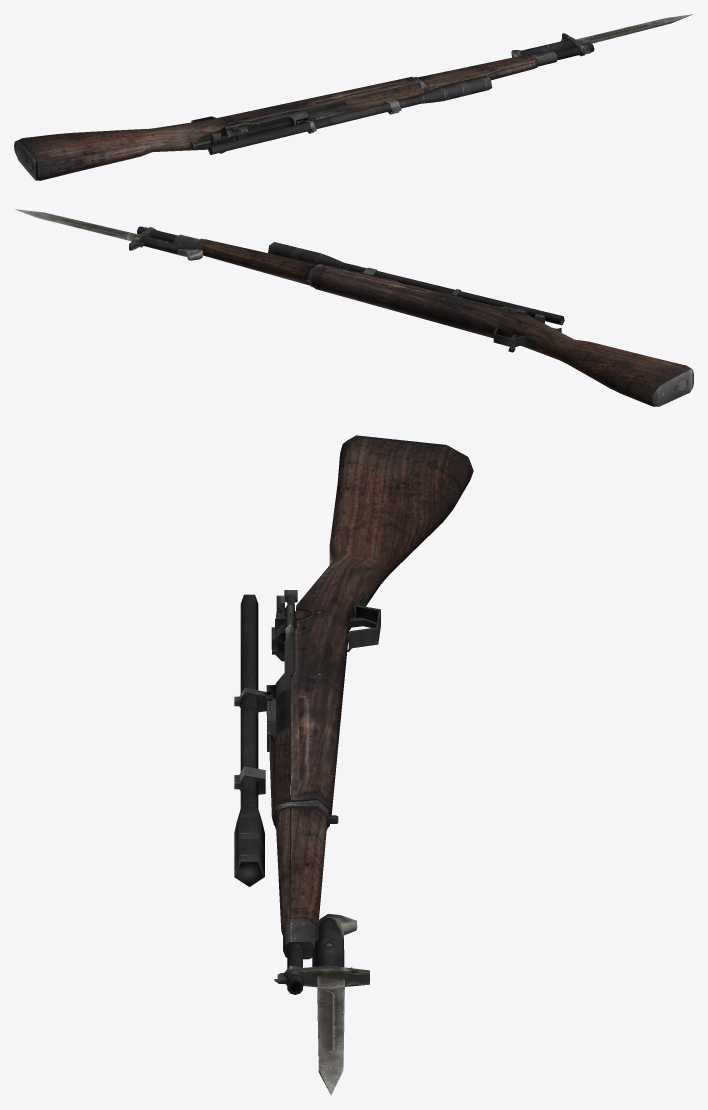
Rendered from weapon_usa_springfield_rifle_scoped_bayonet_LOD11.obj.
3 views of the same model, one above another, from view 1: azimuth 30°, elevation 25°; view 2: azimuth 150°, elevation 25°; view 3: azimuth 270°, elevation 25° (orthographic). The views are drawn at different scales.
Parts seen in each view (by area): view 1: TomGroup_0, TomGroup_2, TomGroup_1; view 2: TomGroup_0, TomGroup_2, TomGroup_1; view 3: TomGroup_0, TomGroup_2, TomGroup_1.
Boxes of the visible parts, x1,y1,x2,y2 form: TomGroup_0: (14,43,594,180); TomGroup_2: (208,75,492,154); TomGroup_1: (511,14,692,57); TomGroup_0: (137,226,693,406); TomGroup_2: (268,242,564,325); TomGroup_1: (15,209,202,260); TomGroup_0: (267,435,473,994); TomGroup_2: (234,594,275,886); TomGroup_1: (284,913,369,1095).
Bounding box in the file's own units: 153 × 7.81 × 24.24.
Materials: 3 (3 with a texture image).
